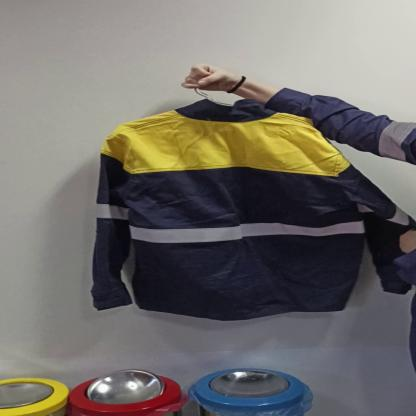C_eletrica: (93, 100, 413, 326)
